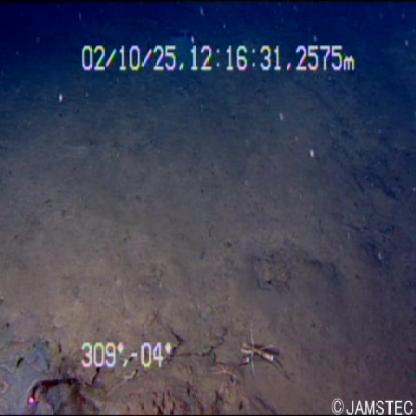Rác: (13, 371, 102, 416)
